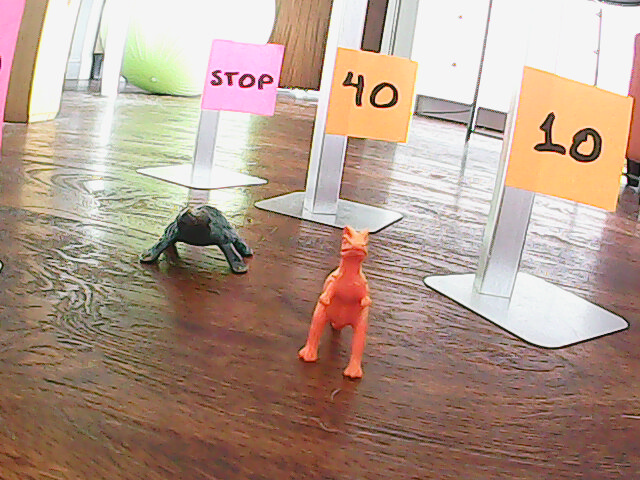10: (510, 87, 624, 192)
40: (328, 57, 414, 136)
dinosaur: (295, 219, 377, 386)
stop: (208, 44, 279, 112)
turtle: (137, 198, 254, 278)
